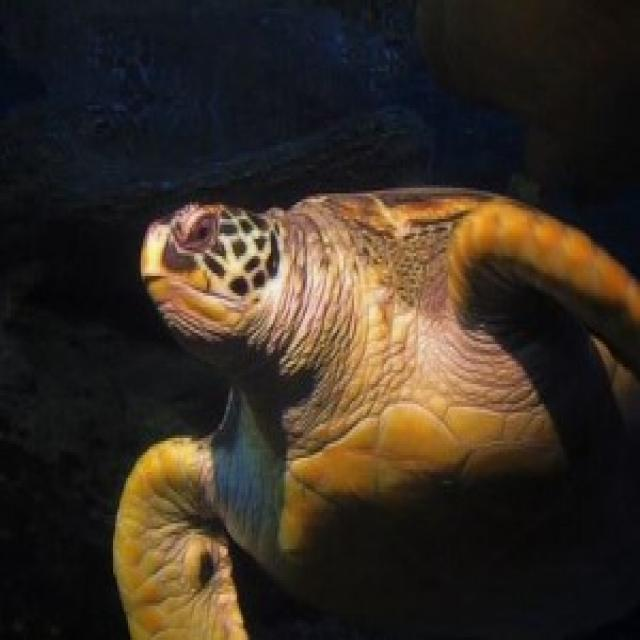Sea turtle: (90, 159, 640, 640)
